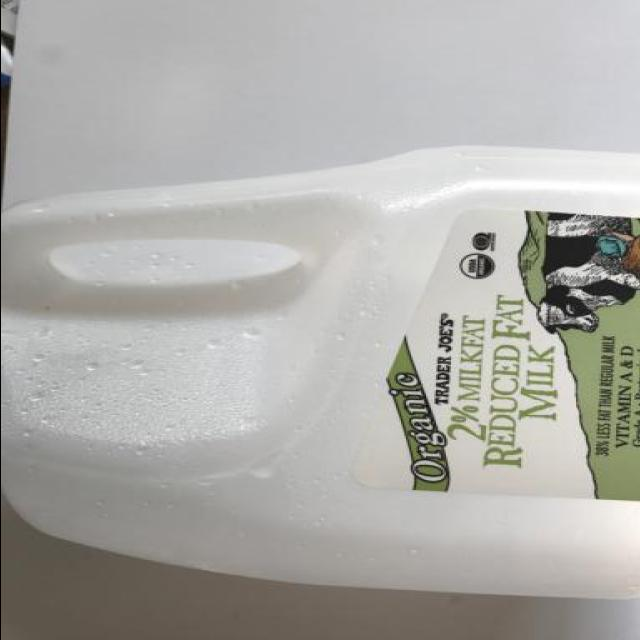HDPEM: (2, 146, 640, 605)
